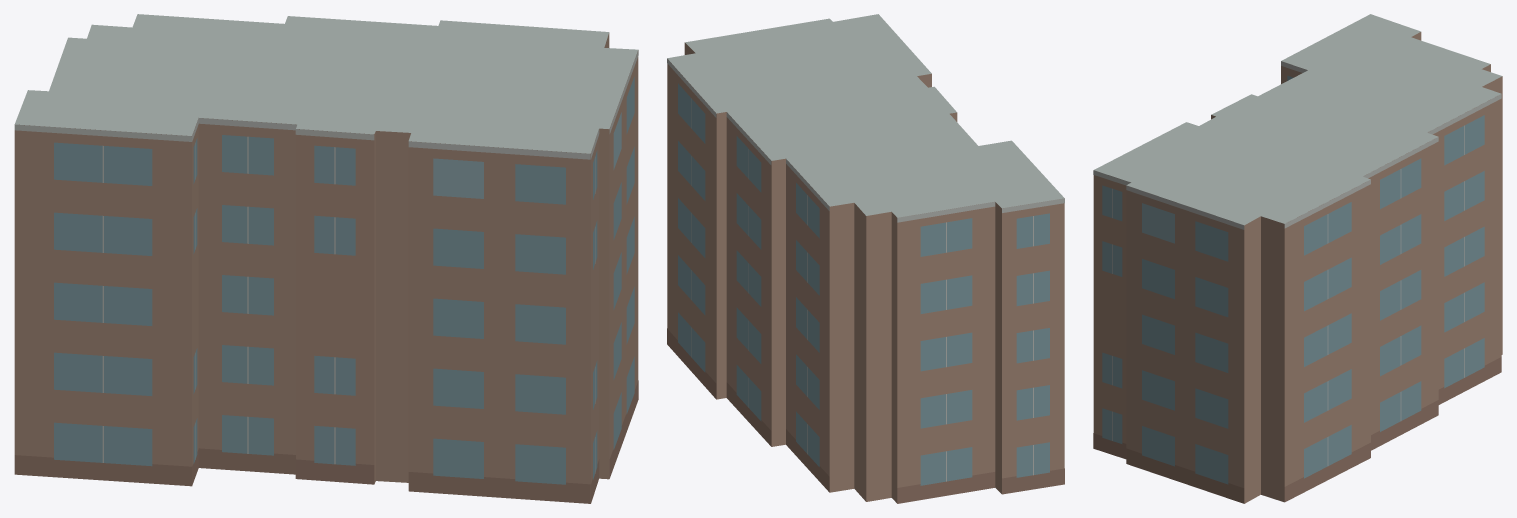
Rendered from survey-upis-32931541.glb.
3 views of the same model, side by side, from view 1: azimuth 30°, elevation 25°; view 2: azimuth 150°, elevation 25°; view 3: azimuth 270°, elevation 25° (orthographic). The views are drawn at different scales.
Parts seen in each view (by area): view 1: survey-upis-32931541.tmp; view 2: survey-upis-32931541.tmp; view 3: survey-upis-32931541.tmp.
Boxes of the visible parts, x1,y1,x2,y2 form: survey-upis-32931541.tmp: (14,14,638,503); survey-upis-32931541.tmp: (667,14,1064,503); survey-upis-32931541.tmp: (1093,14,1502,503).
Bounding box in the file's own units: 23.44 × 14.4 × 19.17.
